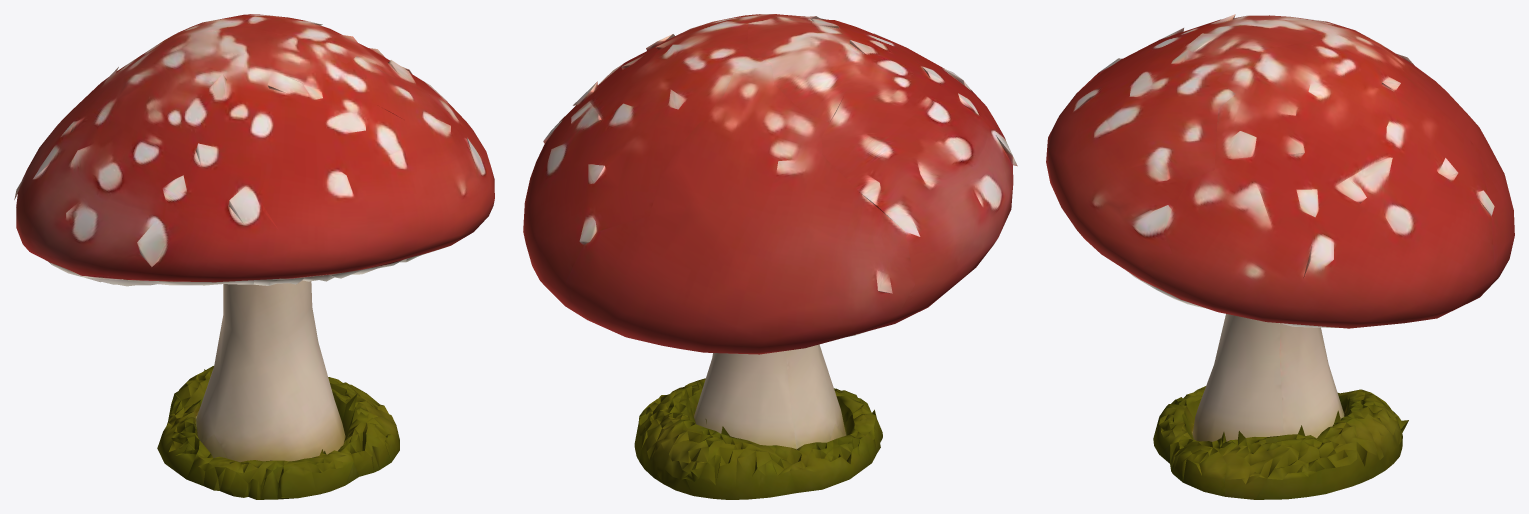
The model's file is m2BounceMushroom.glb.
3 renders of one model, left to right at view 1: azimuth 30°, elevation 25°; view 2: azimuth 150°, elevation 25°; view 3: azimuth 270°, elevation 25°, orthographic. The views are drawn at different scales.
Visible parts, largest first — view 1: model; view 2: model; view 3: model.
Boxes of the visible parts, x1,y1,x2,y2 form: model: (14,14,494,499); model: (523,14,1017,499); model: (1046,14,1514,499).
Size of the model in its own units: 1.9 by 1.77 by 1.86.
1 material, 1 textured.
